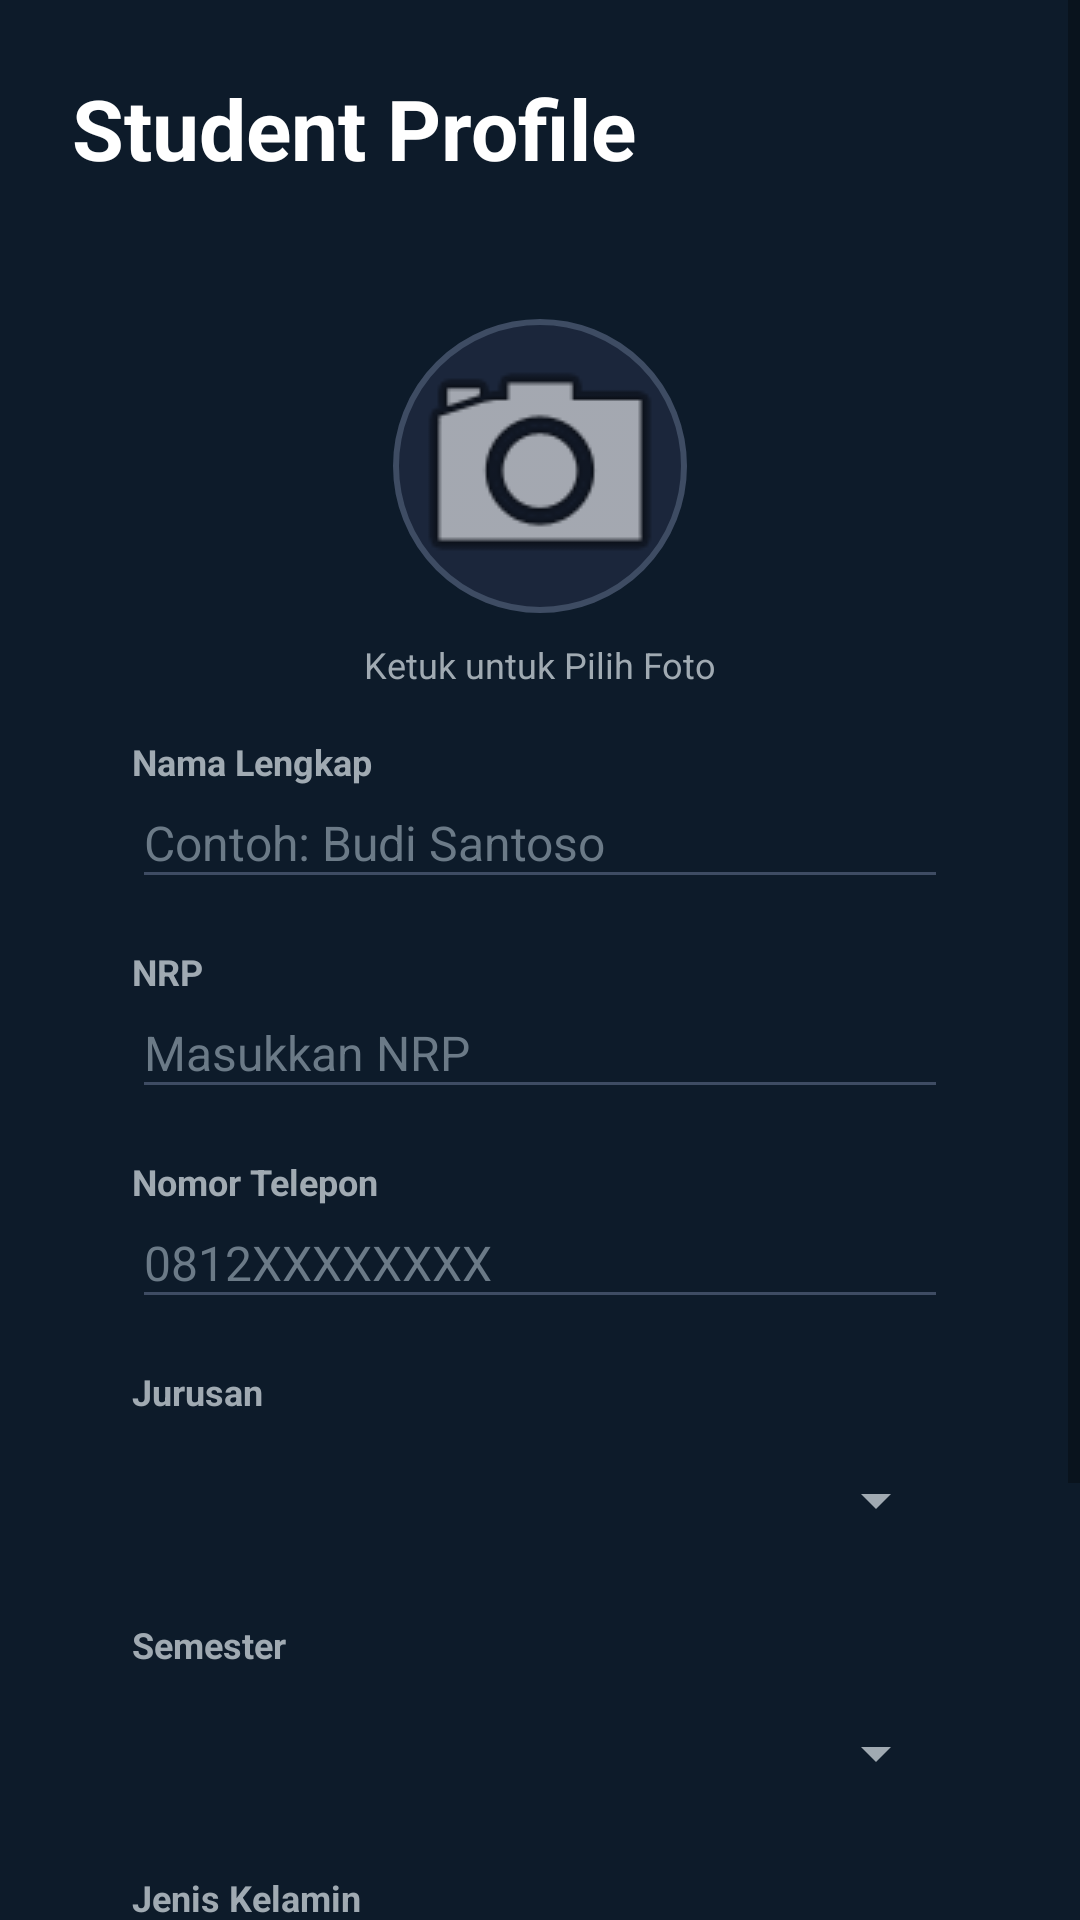

Named icons in this screenshot (1080px x 1920px) and their bounding boxes, (x1, y1, x2, y2):
camera: (393, 319, 687, 613)
